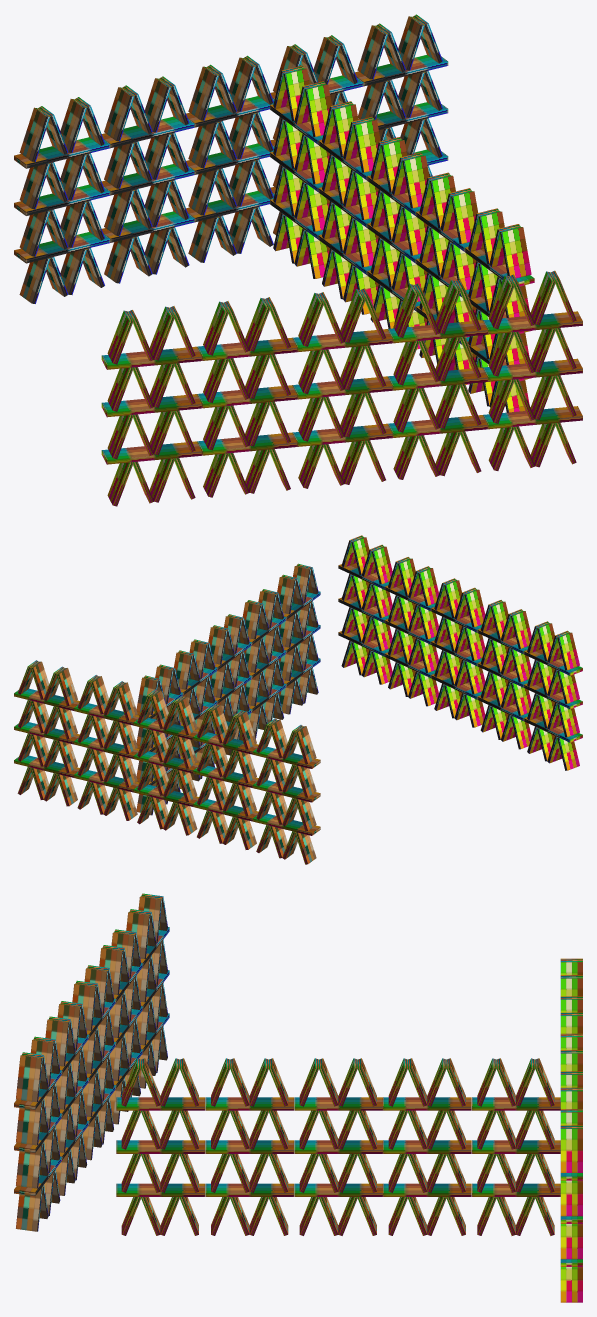
File: Dynamic_1kg.fbx
3 renders of one model, top to bottom at view 1: azimuth 30°, elevation 25°; view 2: azimuth 150°, elevation 25°; view 3: azimuth 270°, elevation 25°, orthographic. The views are drawn at different scales.
Visible parts, largest first — view 1: D1DynamicBox155, D1DynamicBox279, D1DynamicBox156, D1DynamicBox205, D1DynamicBox189, D1DynamicBox196, D1DynamicBox188, D1DynamicBox288, D1DynamicBox163, D1DynamicBox194, D1DynamicBox222, D1DynamicBox272 (+70 smaller); view 2: D1DynamicBox285, D1DynamicBox422, D1DynamicBox421, D1DynamicBox396, D1DynamicBox252, D1DynamicBox169, D1DynamicBox241, D1DynamicBox202, D1DynamicBox429, D1DynamicBox313, D1DynamicBox338, D1DynamicBox339 (+37 smaller); view 3: D1DynamicBox148, D1DynamicBox257, D1DynamicBox124, D1DynamicBox11, D1DynamicBox58, D1DynamicBox88, D1DynamicBox118, D1DynamicBox125, D1DynamicBox94, D1DynamicBox64, D1DynamicBox34, D1DynamicBox6 (+15 smaller).
Part boxes in pixels (x1,y1,x2,y2): D1DynamicBox155: (101,441,201,464); D1DynamicBox279: (101,346,201,369); D1DynamicBox156: (101,394,201,417); D1DynamicBox205: (292,423,392,446); D1DynamicBox189: (197,385,297,408); D1DynamicBox196: (387,320,487,343); D1DynamicBox188: (197,432,297,455); D1DynamicBox288: (292,329,392,351); D1DynamicBox163: (197,338,297,360); D1DynamicBox194: (292,376,392,399); D1DynamicBox222: (387,367,487,390); D1DynamicBox272: (483,358,582,381); D1DynamicBox285: (557,632,579,670); D1DynamicBox422: (252,780,320,802); D1DynamicBox421: (252,813,320,835); D1DynamicBox396: (252,747,320,768); D1DynamicBox252: (372,546,392,584); D1DynamicBox169: (511,611,531,648); D1DynamicBox241: (464,589,485,627); D1DynamicBox202: (418,568,438,605); D1DynamicBox429: (14,688,79,710); D1DynamicBox313: (73,703,139,725); D1DynamicBox338: (73,770,139,792); D1DynamicBox339: (73,736,139,758); D1DynamicBox148: (472,1097,560,1110); D1DynamicBox257: (16,1055,42,1102); D1DynamicBox124: (472,1140,560,1153); D1DynamicBox11: (294,1097,382,1110); D1DynamicBox58: (383,1097,471,1110); D1DynamicBox88: (205,1097,293,1110); D1DynamicBox118: (116,1097,204,1110); D1DynamicBox125: (472,1183,560,1196); D1DynamicBox94: (116,1140,204,1153); D1DynamicBox64: (205,1140,293,1153); D1DynamicBox34: (383,1140,471,1153); D1DynamicBox6: (294,1140,382,1153).
Size of what is drawn, in the model's own units: 135 by 41.96 by 128.
